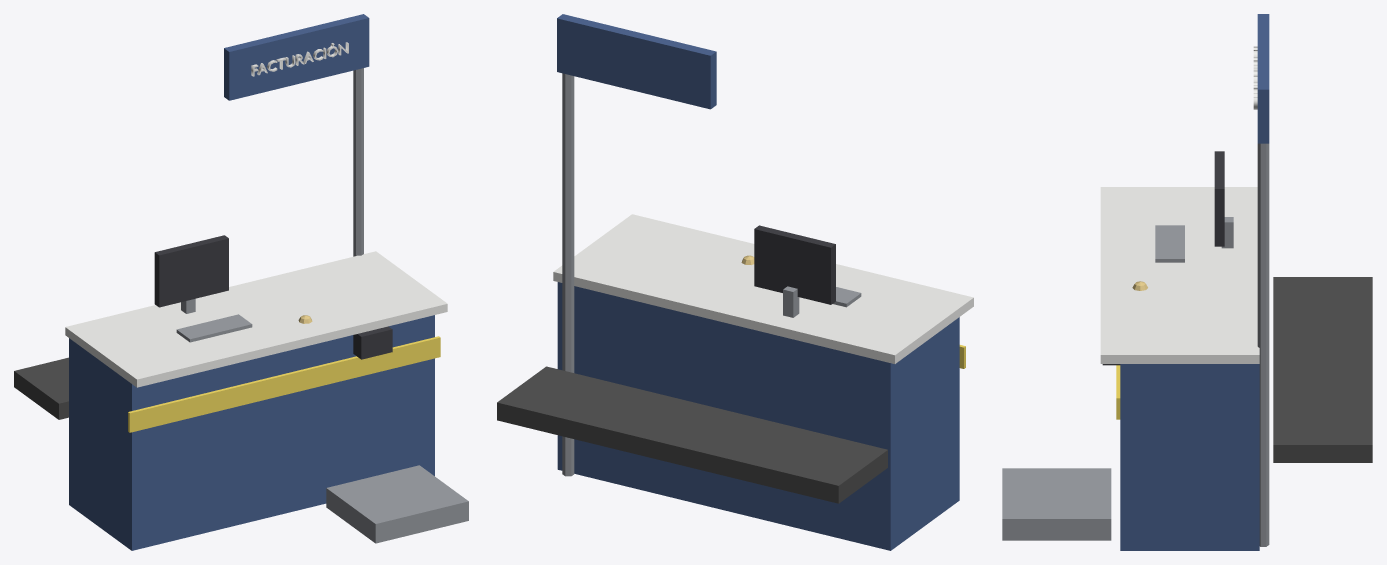
The model's file is CR_Mostrador.fbx.
The picture shows the model from 3 angles, left to right: view 1: azimuth 30°, elevation 25°; view 2: azimuth 150°, elevation 25°; view 3: azimuth 270°, elevation 25°; orthographic projection. The views are drawn at different scales.
Parts seen in each view (by area): view 1: CR_Mostrador; view 2: CR_Mostrador; view 3: CR_Mostrador.
Boxes of the visible parts, box(x1,y1,x2,y2) form: CR_Mostrador: box(14, 14, 468, 550); CR_Mostrador: box(497, 14, 973, 550); CR_Mostrador: box(1002, 14, 1372, 550).
Bounding box in the file's own units: 2 × 2.55 × 1.87.
